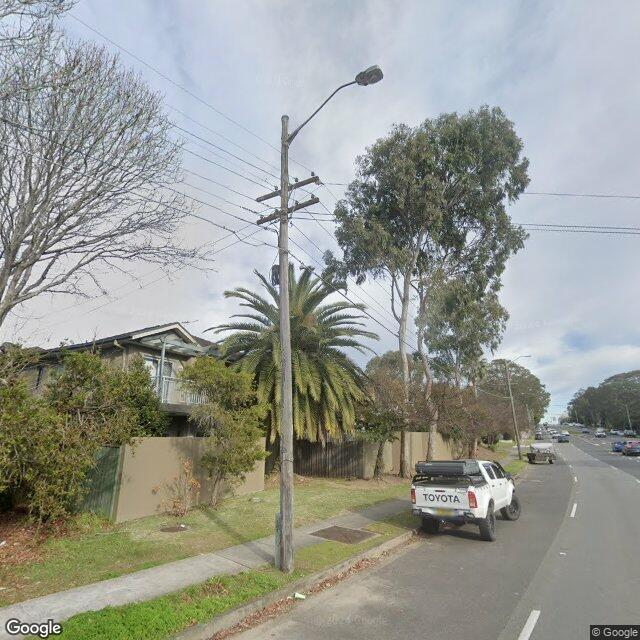crossarm: (256, 197, 319, 225), (256, 176, 320, 202)
streetlight: (286, 64, 385, 146), (507, 355, 532, 366)
timber-pole: (278, 115, 294, 571), (506, 360, 522, 460)
